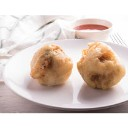bonda: (30, 43, 75, 88), (81, 43, 125, 88)
